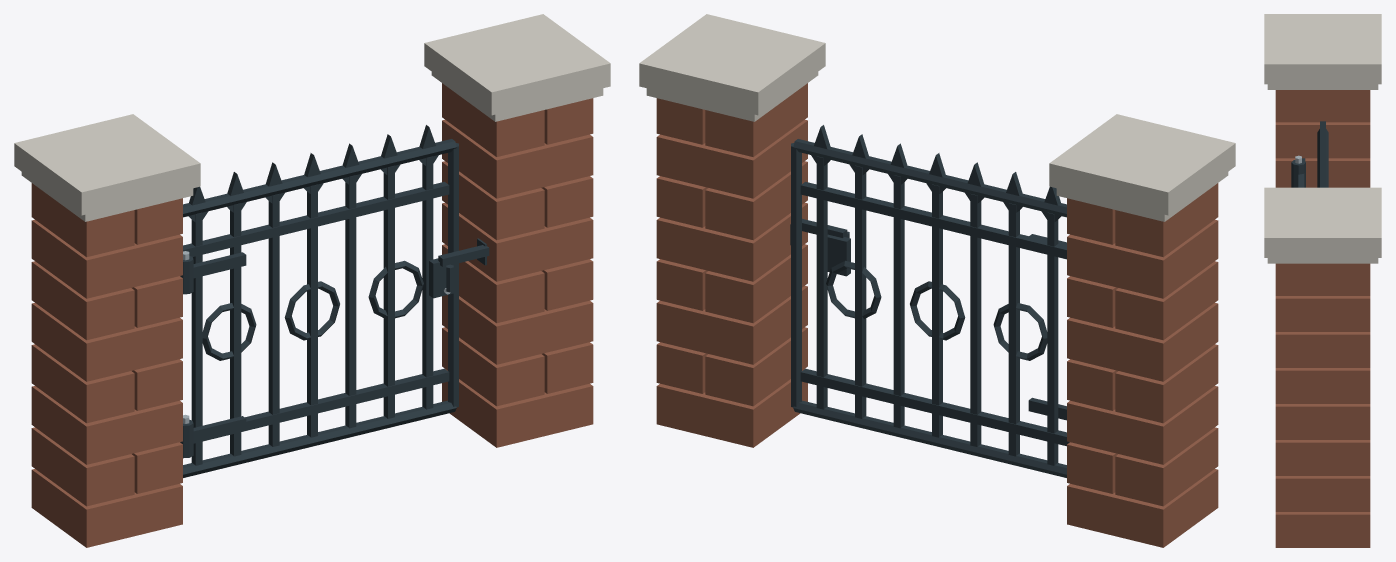
File: b19_brick_pier_garden_gate.glb
3 views of the same model, side by side, from view 1: azimuth 30°, elevation 25°; view 2: azimuth 150°, elevation 25°; view 3: azimuth 270°, elevation 25° (orthographic). The views are drawn at different scales.
Visible parts, largest first — view 1: b19_brick_pier_garden_gate; view 2: b19_brick_pier_garden_gate; view 3: b19_brick_pier_garden_gate.
Part boxes in pixels (x1,y1,x2,y2): b19_brick_pier_garden_gate: [14, 14, 610, 547]; b19_brick_pier_garden_gate: [639, 14, 1235, 547]; b19_brick_pier_garden_gate: [1264, 14, 1381, 547].
Bounding box in the file's own units: 2.4 × 1.57 × 0.53.
